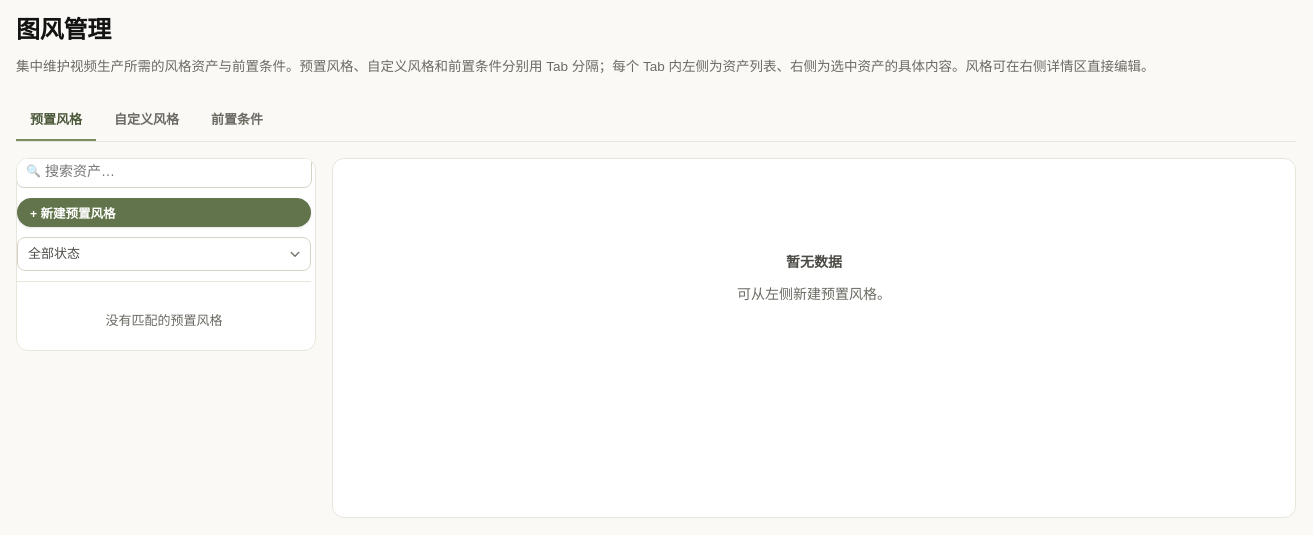
it: AssetManagementPage › loads read-only precondition cards with real contract fields and no Task selection control
The width and height of the screenshot is (1313, 535).
Step 1. Click the tab "前置条件" → (237, 120), box [197, 99, 277, 141]
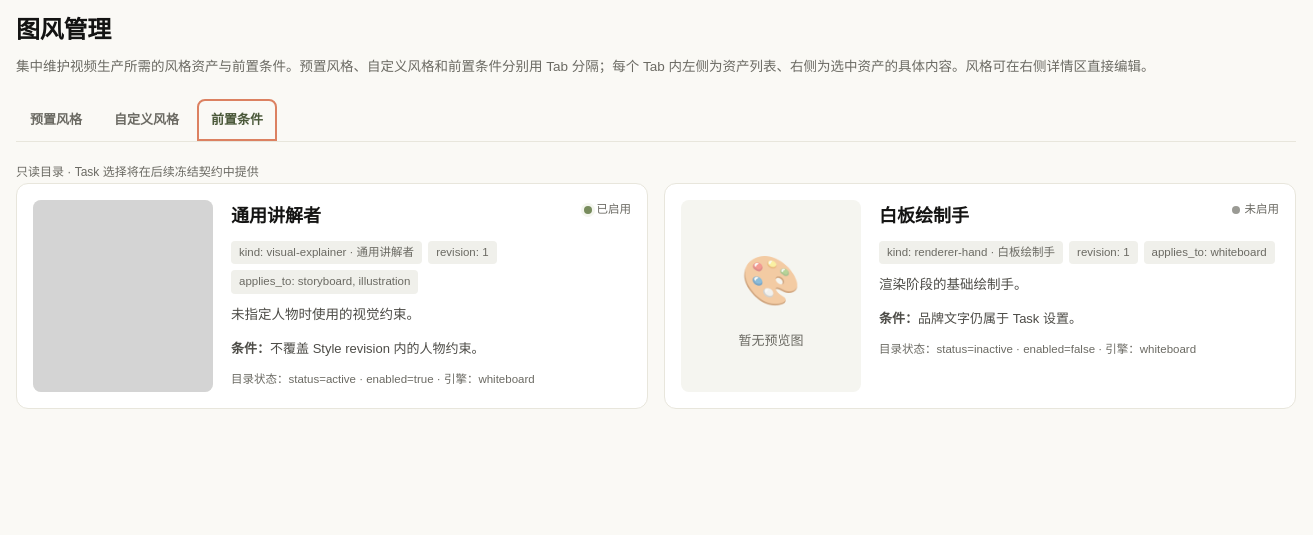
Check: the heading "通用讲解者" is shown, box [231, 200, 321, 231]
Check: the heading "白板绘制手" is shown, box [879, 200, 969, 231]
Check: the text "kind: visual-explainer · 通用讲解者" is shown, box [231, 241, 422, 264]
